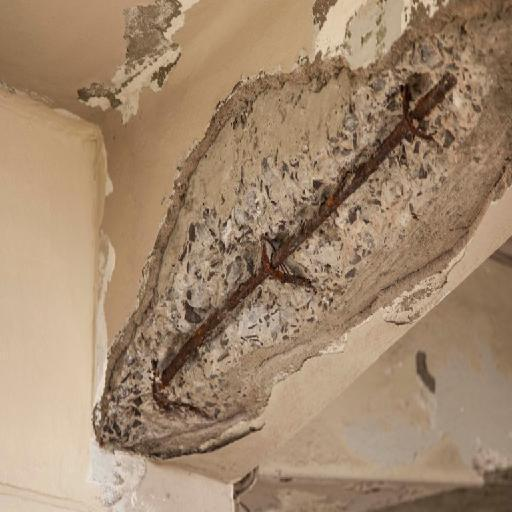exposed_rebar: (161, 70, 458, 388)
spalling: (96, 0, 512, 456)
